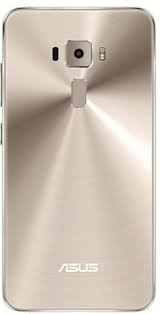asus: (2, 5, 158, 311)
